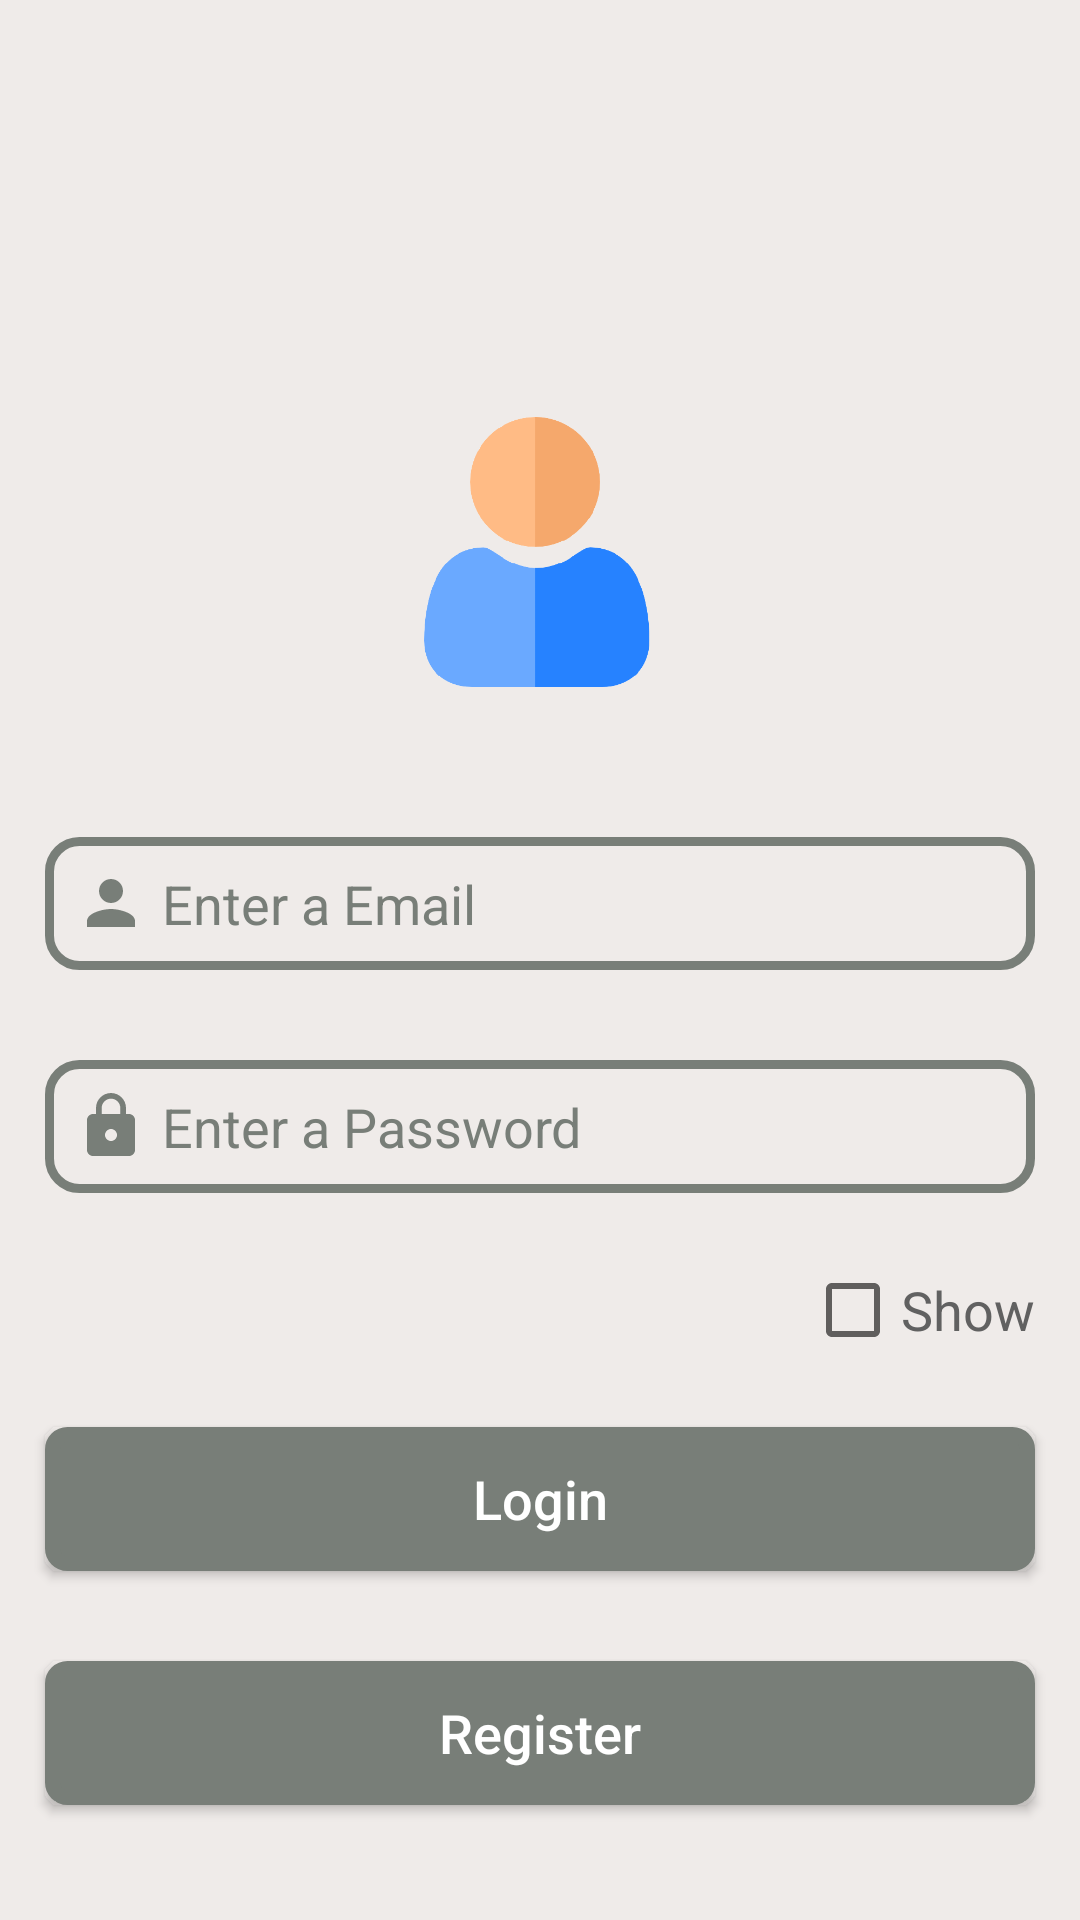

Screen size 1080 x 1920. Icon name, then its box in pixels as rect(x1, y1, x2, y2):
login: rect(424, 417, 650, 687)
